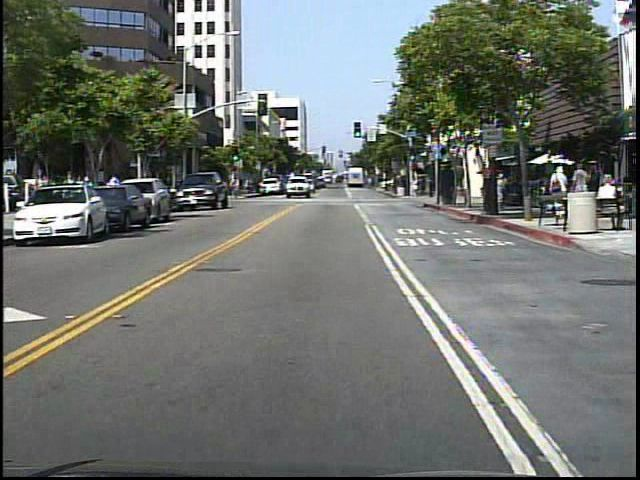person: (30, 163, 51, 222), (494, 170, 505, 214), (230, 174, 243, 200)
